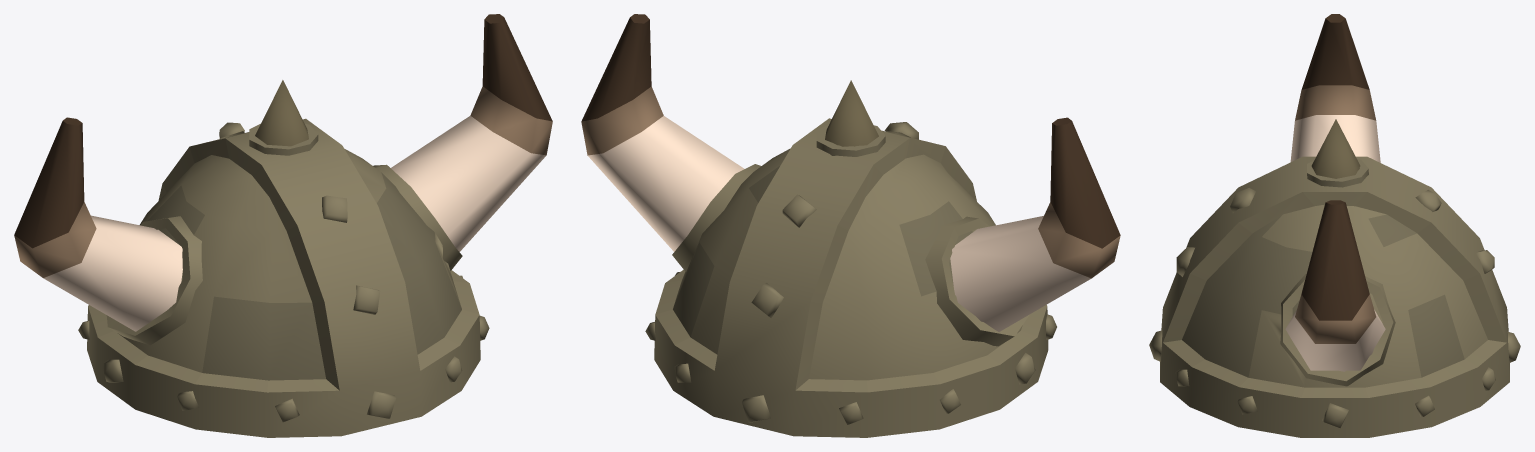
Rendered from Hat_viking.fbx.
3 renders of one model, left to right at view 1: azimuth 30°, elevation 25°; view 2: azimuth 150°, elevation 25°; view 3: azimuth 270°, elevation 25°, orthographic. The views are drawn at different scales.
Parts seen in each view (by area): view 1: VikingHelmet; view 2: VikingHelmet; view 3: VikingHelmet.
Boxes of the visible parts, x1=… form: VikingHelmet: x1=14, y1=14, x2=552, y2=437; VikingHelmet: x1=581, y1=14, x2=1120, y2=437; VikingHelmet: x1=1149, y1=14, x2=1520, y2=437.
Bounding box in the file's own units: 82.21 × 43.13 × 56.87.
